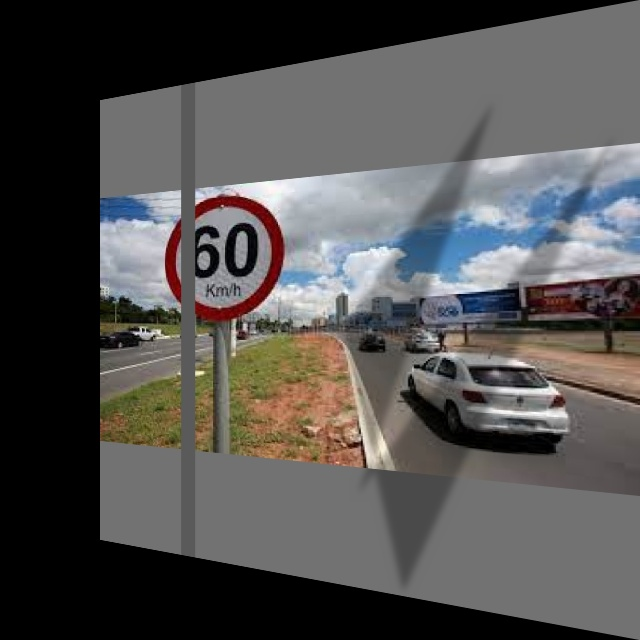Speed_Limit_60: (166, 186, 280, 320)
